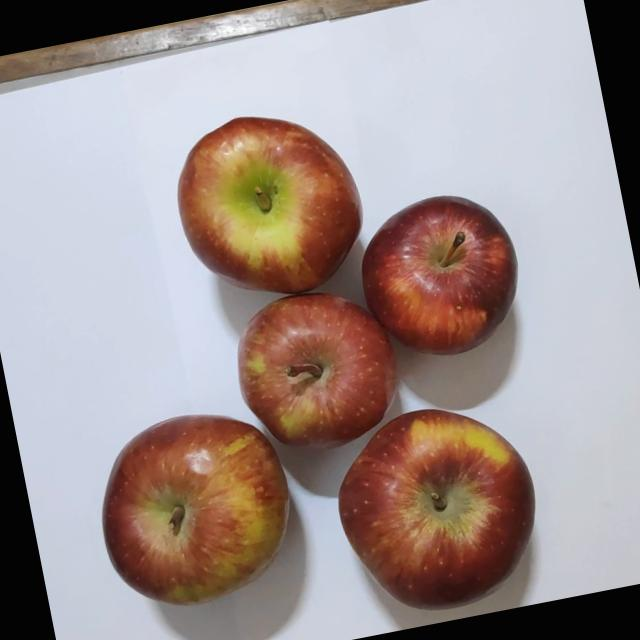apple: (316, 386, 558, 631), (74, 393, 316, 625), (160, 90, 380, 316), (218, 274, 415, 466), (347, 179, 537, 372)
